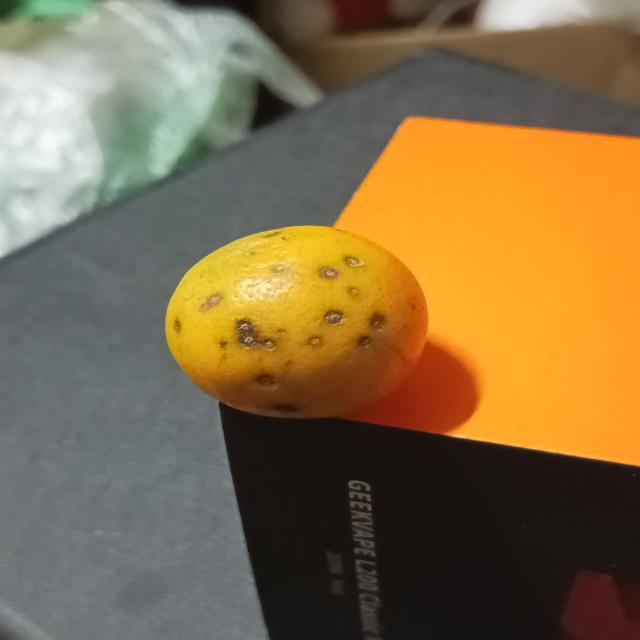black spot: (161, 220, 436, 425)
